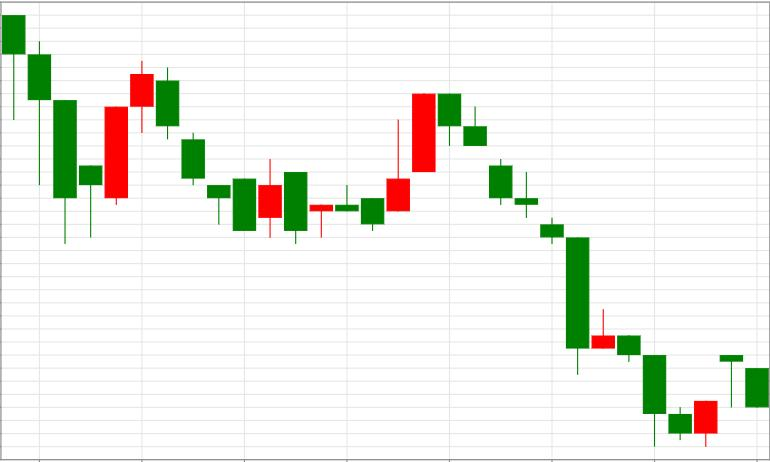bullish_engulfing_rise: (438, 93, 717, 447)
